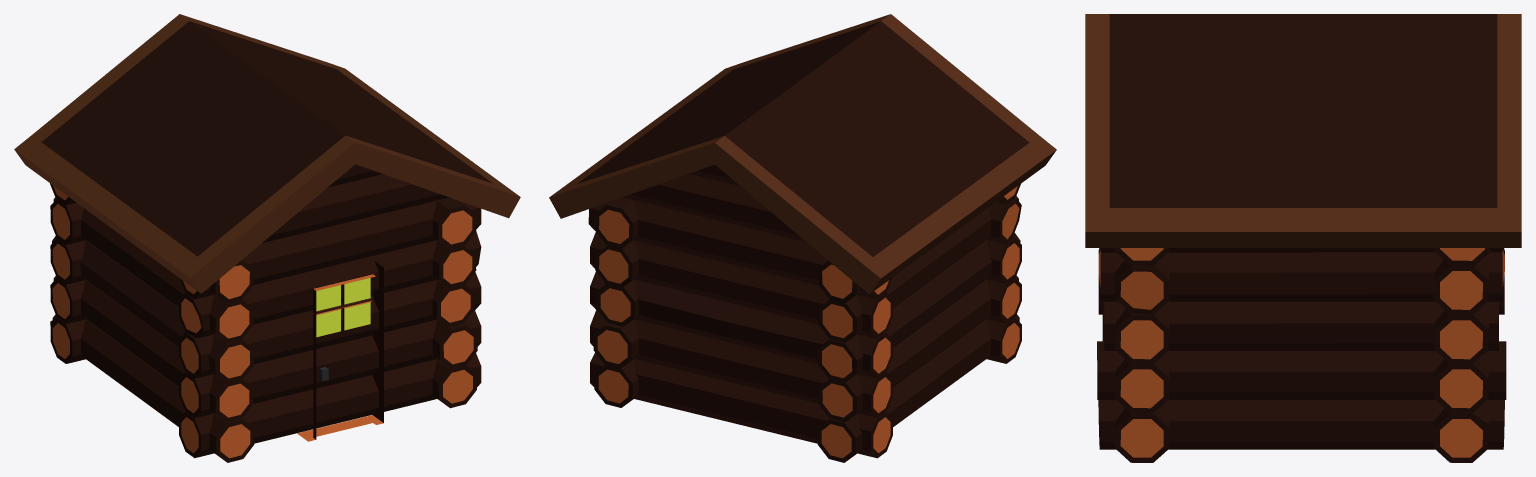
File: cabane.obj
3 views of the same model, side by side, from view 1: azimuth 30°, elevation 25°; view 2: azimuth 150°, elevation 25°; view 3: azimuth 270°, elevation 25° (orthographic). The views are drawn at different scales.
Visible parts, largest first — view 1: Toit_Plane.001, Poutre_Cylinder, Poutre.001_Cylinder.001, Poutre.004_Cylinder.004, Poutre.003_Cylinder.003, Poutre.002_Cylinder.002, Poutre.010_Cylinder.010, Poutre.012_Cylinder.012, Poutre.011_Cylinder.011, Plane, Poutre.021_Cylinder.021, Poutre.013_Cylinder.013 (+10 smaller); view 2: Toit_Plane.001, Poutre.009_Cylinder.009, Poutre.007_Cylinder.007, Poutre.008_Cylinder.008, Poutre.006_Cylinder.006, Poutre.005_Cylinder.005, Poutre.010_Cylinder.010, Poutre.012_Cylinder.012, Poutre.011_Cylinder.011, Poutre.022_Cylinder.022, Poutre.013_Cylinder.013, Poutre.015_Cylinder.015 (+9 smaller); view 3: Toit_Plane.001, Poutre.018_Cylinder.018, Poutre.019_Cylinder.019, Poutre.016_Cylinder.016, Poutre.017_Cylinder.017, Poutre.009_Cylinder.009, Poutre.002_Cylinder.002, Poutre_Cylinder, Poutre.001_Cylinder.001, Poutre.007_Cylinder.007, Poutre.008_Cylinder.008, Poutre.006_Cylinder.006 (+4 smaller).
Part boxes in pixels (x1,y1,x2,y2): Toit_Plane.001: [14, 14, 520, 293]; Poutre_Cylinder: [179, 353, 481, 458]; Poutre.001_Cylinder.001: [179, 310, 481, 418]; Poutre.004_Cylinder.004: [180, 198, 481, 299]; Poutre.003_Cylinder.003: [179, 231, 481, 338]; Poutre.002_Cylinder.002: [179, 272, 481, 378]; Poutre.010_Cylinder.010: [52, 314, 254, 462]; Poutre.012_Cylinder.012: [52, 236, 253, 382]; Poutre.011_Cylinder.011: [53, 276, 253, 422]; Plane: [297, 260, 383, 441]; Poutre.021_Cylinder.021: [262, 174, 448, 242]; Poutre.013_Cylinder.013: [53, 197, 253, 342]; Toit_Plane.001: [549, 14, 1056, 294]; Poutre.009_Cylinder.009: [590, 352, 892, 458]; Poutre.007_Cylinder.007: [590, 271, 892, 378]; Poutre.008_Cylinder.008: [590, 310, 892, 418]; Poutre.006_Cylinder.006: [590, 232, 892, 338]; Poutre.005_Cylinder.005: [588, 200, 891, 299]; Poutre.010_Cylinder.010: [817, 314, 1019, 462]; Poutre.012_Cylinder.012: [818, 232, 1020, 382]; Poutre.011_Cylinder.011: [818, 275, 1018, 421]; Poutre.022_Cylinder.022: [622, 174, 806, 242]; Poutre.013_Cylinder.013: [818, 196, 1018, 342]; Poutre.015_Cylinder.015: [595, 197, 637, 248]; Toit_Plane.001: [1085, 14, 1521, 247]; Poutre.018_Cylinder.018: [1097, 341, 1506, 399]; Poutre.019_Cylinder.019: [1098, 400, 1504, 449]; Poutre.016_Cylinder.016: [1098, 248, 1504, 301]; Poutre.017_Cylinder.017: [1104, 301, 1498, 350]; Poutre.009_Cylinder.009: [1434, 407, 1488, 462]; Poutre.002_Cylinder.002: [1115, 309, 1169, 364]; Poutre_Cylinder: [1115, 408, 1169, 462]; Poutre.001_Cylinder.001: [1115, 359, 1169, 413]; Poutre.007_Cylinder.007: [1434, 309, 1488, 364]; Poutre.008_Cylinder.008: [1434, 359, 1488, 413]; Poutre.006_Cylinder.006: [1434, 260, 1488, 314].
Bounding box in the file's own units: 2.01 × 1.71 × 1.85.
